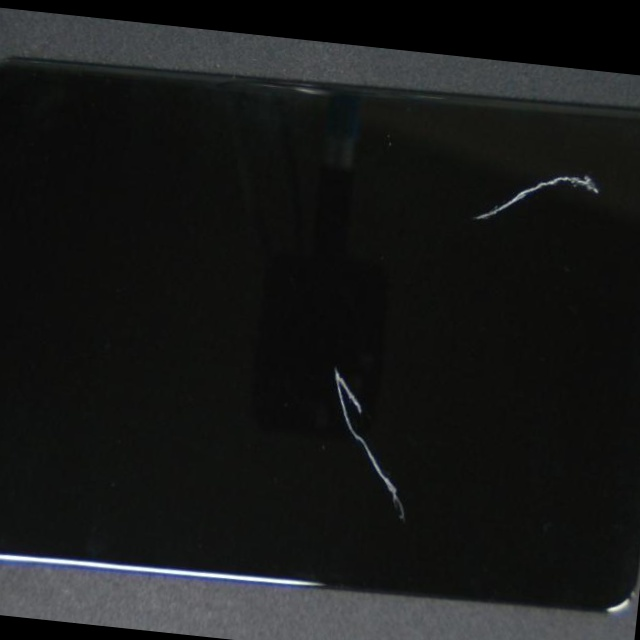scratch: (221, 360, 634, 640), (311, 119, 640, 253)
